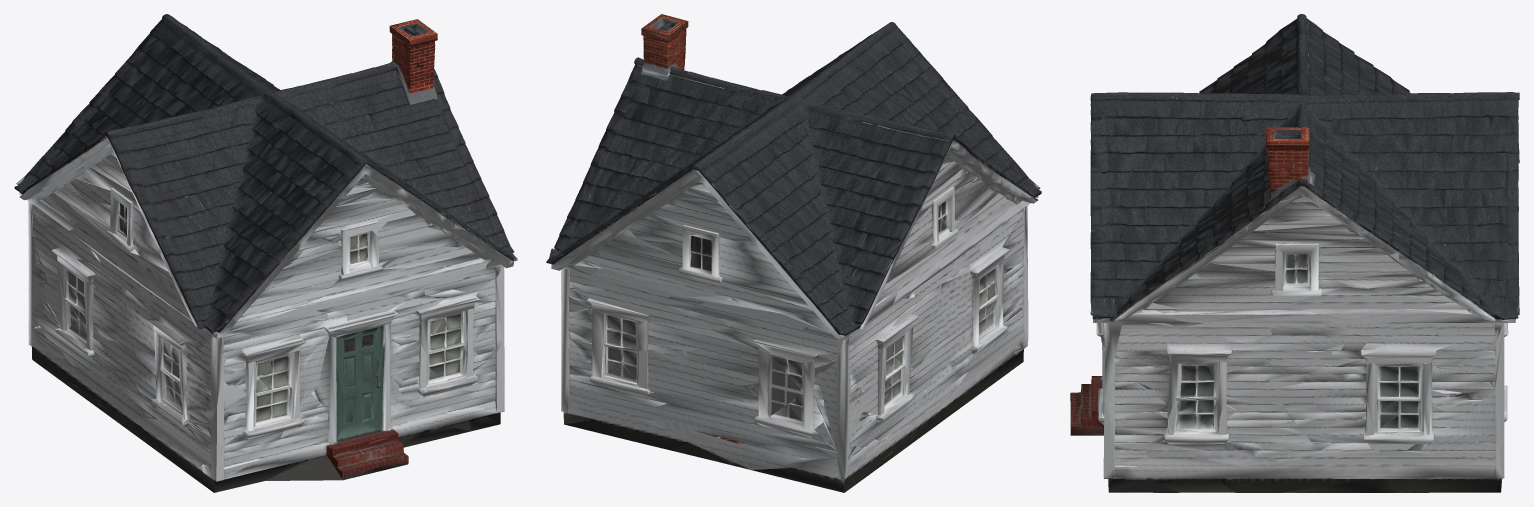
Rendered from House.fbx.
The picture shows the model from 3 angles, left to right: view 1: azimuth 30°, elevation 25°; view 2: azimuth 150°, elevation 25°; view 3: azimuth 270°, elevation 25°; orthographic projection. The views are drawn at different scales.
Visible parts, largest first — view 1: Mesh_0; view 2: Mesh_0; view 3: Mesh_0.
Boxes of the visible parts, left/top/right/bottom form: Mesh_0: left=14, top=14, right=517, bottom=492; Mesh_0: left=546, top=14, right=1041, bottom=492; Mesh_0: left=1070, top=14, right=1519, bottom=492.
Bounding box in the file's own units: 168 × 167 × 190.
Materials: 1 (1 with a texture image).
